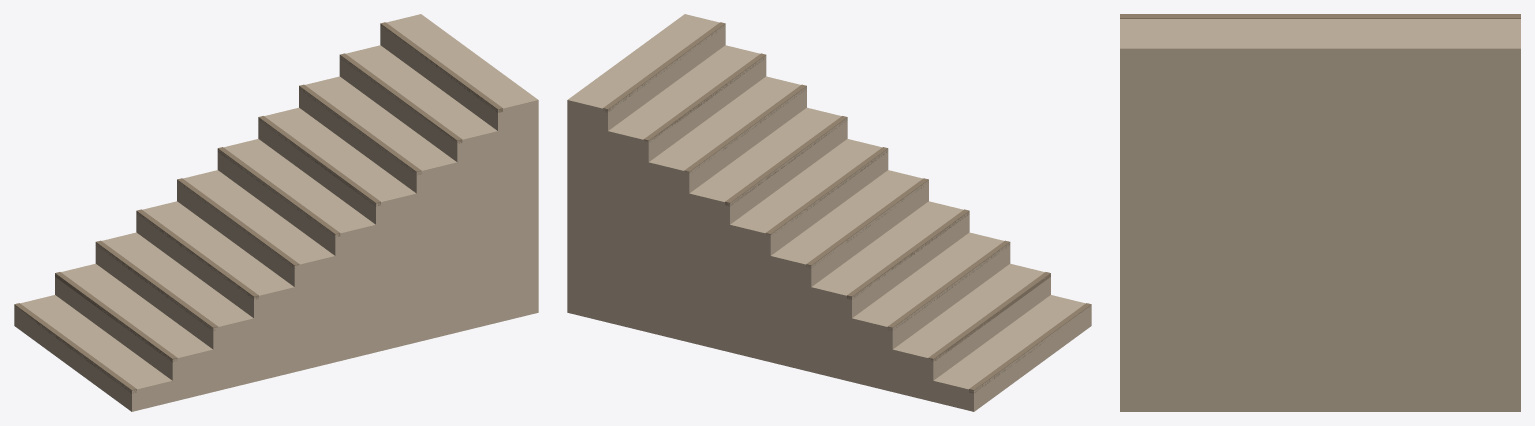
The model's file is city_stair_flight.glb.
3 views of the same model, side by side, from view 1: azimuth 30°, elevation 25°; view 2: azimuth 150°, elevation 25°; view 3: azimuth 270°, elevation 25° (orthographic). The views are drawn at different scales.
Parts seen in each view (by area): view 1: CityStairFlight_Flight, CityStairFlight_Nosing1, CityStairFlight_Nosing2, CityStairFlight_Nosing0, CityStairFlight_Nosing6, CityStairFlight_Nosing3, CityStairFlight_Nosing9, CityStairFlight_Nosing5, CityStairFlight_Nosing8, CityStairFlight_Nosing7, CityStairFlight_Nosing4; view 2: CityStairFlight_Flight, CityStairFlight_Nosing1, CityStairFlight_Nosing6, CityStairFlight_Nosing3, CityStairFlight_Nosing8, CityStairFlight_Nosing2, CityStairFlight_Nosing5, CityStairFlight_Nosing7, CityStairFlight_Nosing9, CityStairFlight_Nosing0, CityStairFlight_Nosing4; view 3: CityStairFlight_Flight, CityStairFlight_Nosing9.
Part boxes in pixels (box(x1,y1,x2,y2)): CityStairFlight_Flight: box(14, 14, 538, 411); CityStairFlight_Nosing1: box(55, 272, 177, 362); CityStairFlight_Nosing2: box(95, 240, 218, 330); CityStairFlight_Nosing0: box(14, 303, 136, 393); CityStairFlight_Nosing6: box(258, 116, 380, 206); CityStairFlight_Nosing3: box(136, 209, 258, 299); CityStairFlight_Nosing9: box(380, 22, 502, 112); CityStairFlight_Nosing5: box(217, 147, 340, 236); CityStairFlight_Nosing8: box(339, 53, 462, 143); CityStairFlight_Nosing7: box(299, 84, 421, 175); CityStairFlight_Nosing4: box(177, 178, 299, 268); CityStairFlight_Flight: box(567, 14, 1091, 411); CityStairFlight_Nosing1: box(928, 272, 1050, 361); CityStairFlight_Nosing6: box(725, 116, 847, 206); CityStairFlight_Nosing3: box(847, 209, 969, 299); CityStairFlight_Nosing8: box(643, 53, 765, 143); CityStairFlight_Nosing2: box(887, 240, 1010, 330); CityStairFlight_Nosing5: box(765, 147, 887, 237); CityStairFlight_Nosing7: box(684, 84, 806, 173); CityStairFlight_Nosing9: box(603, 22, 725, 112); CityStairFlight_Nosing0: box(969, 303, 1091, 393); CityStairFlight_Nosing4: box(806, 178, 928, 268); CityStairFlight_Flight: box(1120, 19, 1520, 411); CityStairFlight_Nosing9: box(1120, 14, 1520, 18).
Size of the model in its own units: 4 by 2.01 by 2.
